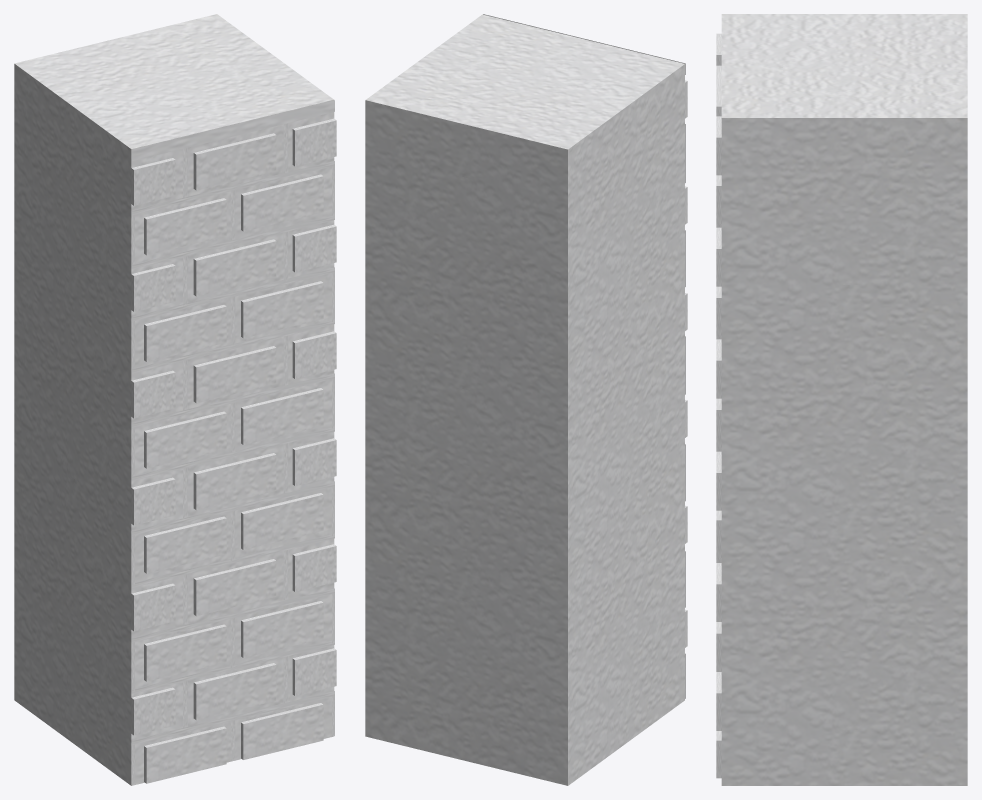
The model's file is scene_wall_brick.fbx.
3 renders of one model, left to right at view 1: azimuth 30°, elevation 25°; view 2: azimuth 150°, elevation 25°; view 3: azimuth 270°, elevation 25°, orthographic. The views are drawn at different scales.
Parts seen in each view (by area): view 1: mesh_wall_brick; view 2: mesh_wall_brick; view 3: mesh_wall_brick.
Boxes of the visible parts, x1,y1,x2,y2 form: mesh_wall_brick: (14, 14, 336, 785); mesh_wall_brick: (365, 14, 687, 785); mesh_wall_brick: (716, 14, 967, 785).
Bounding box in the file's own units: 1 × 3 × 1.02.
1 material, 1 textured.
